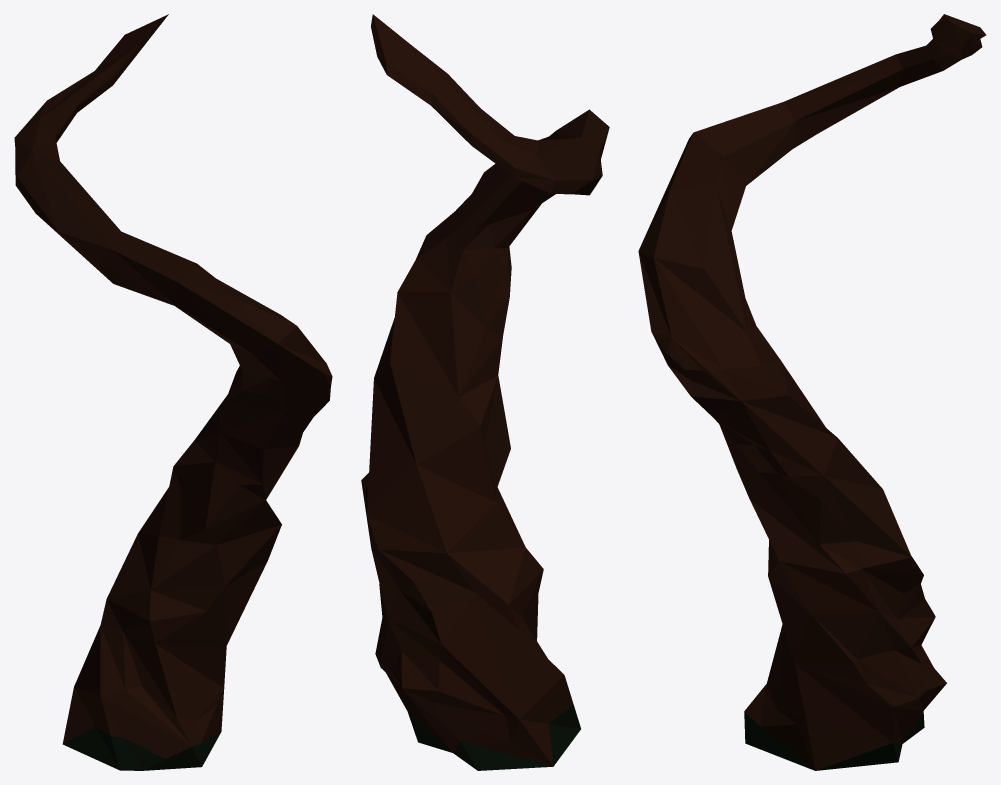
The model's file is tree old.FBX.
3 renders of one model, left to right at view 1: azimuth 30°, elevation 25°; view 2: azimuth 150°, elevation 25°; view 3: azimuth 270°, elevation 25°, orthographic. The views are drawn at different scales.
Visible parts, largest first — view 1: tree old; view 2: tree old; view 3: tree old.
Part boxes in pixels (x1,y1,x2,y2): tree old: [14, 14, 332, 770]; tree old: [361, 14, 609, 770]; tree old: [638, 14, 986, 770].
Bounding box in the file's own units: 3.86 × 4.8 × 11.6.
